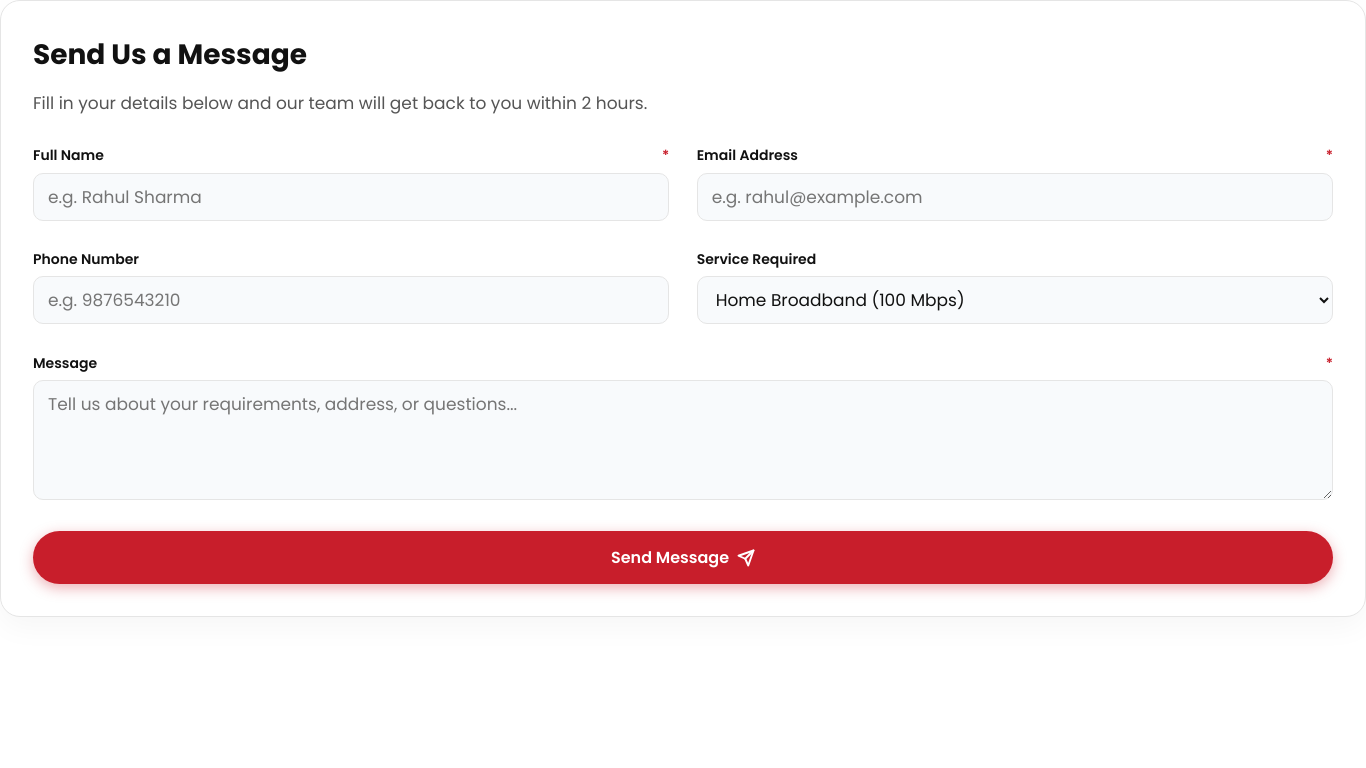
Test case: ContactForm Component › handles server failure gracefully and displays error alert
Type "Rahul Sharma" into the field labelled "Full Name *" at (351, 197), box [33,173,669,221]
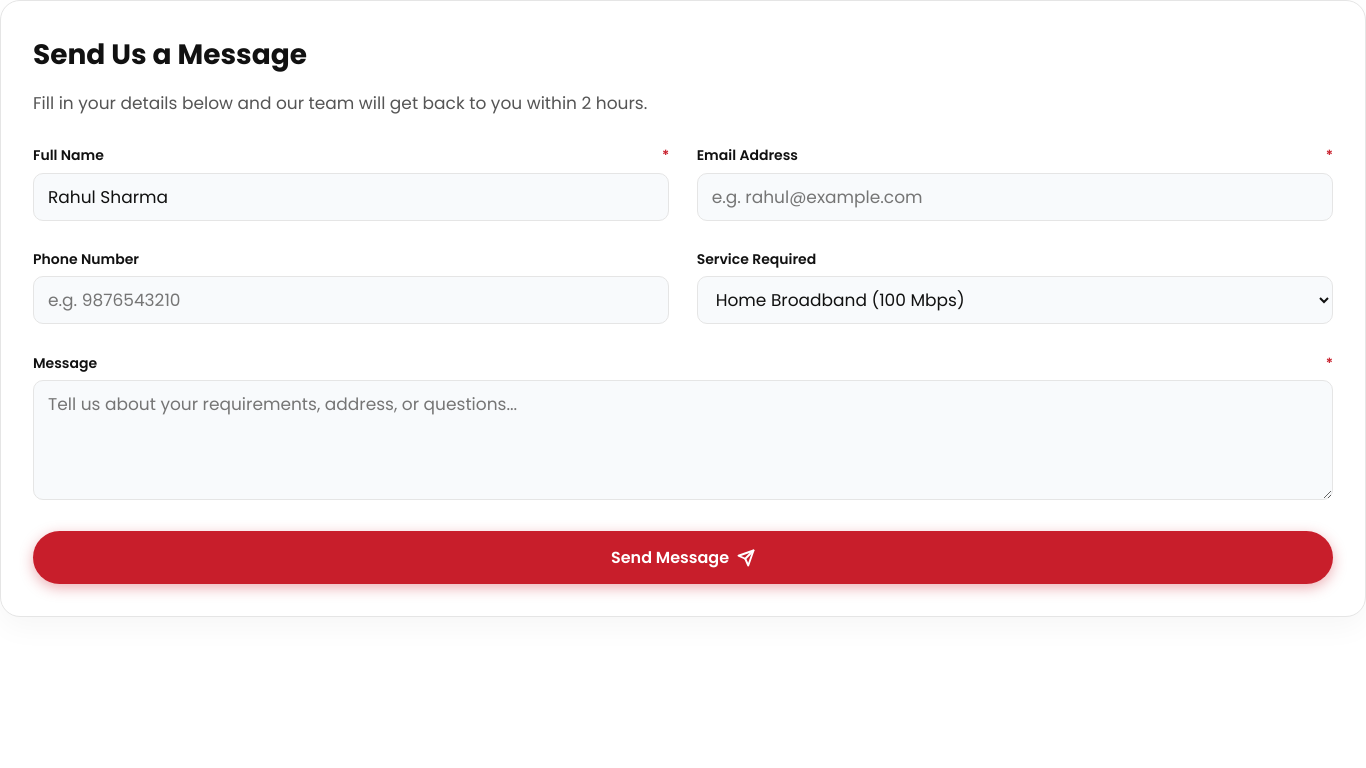
Type "rahul@example.com" into the field labelled "Email Address *" at (1015, 197), box [697,173,1333,221]
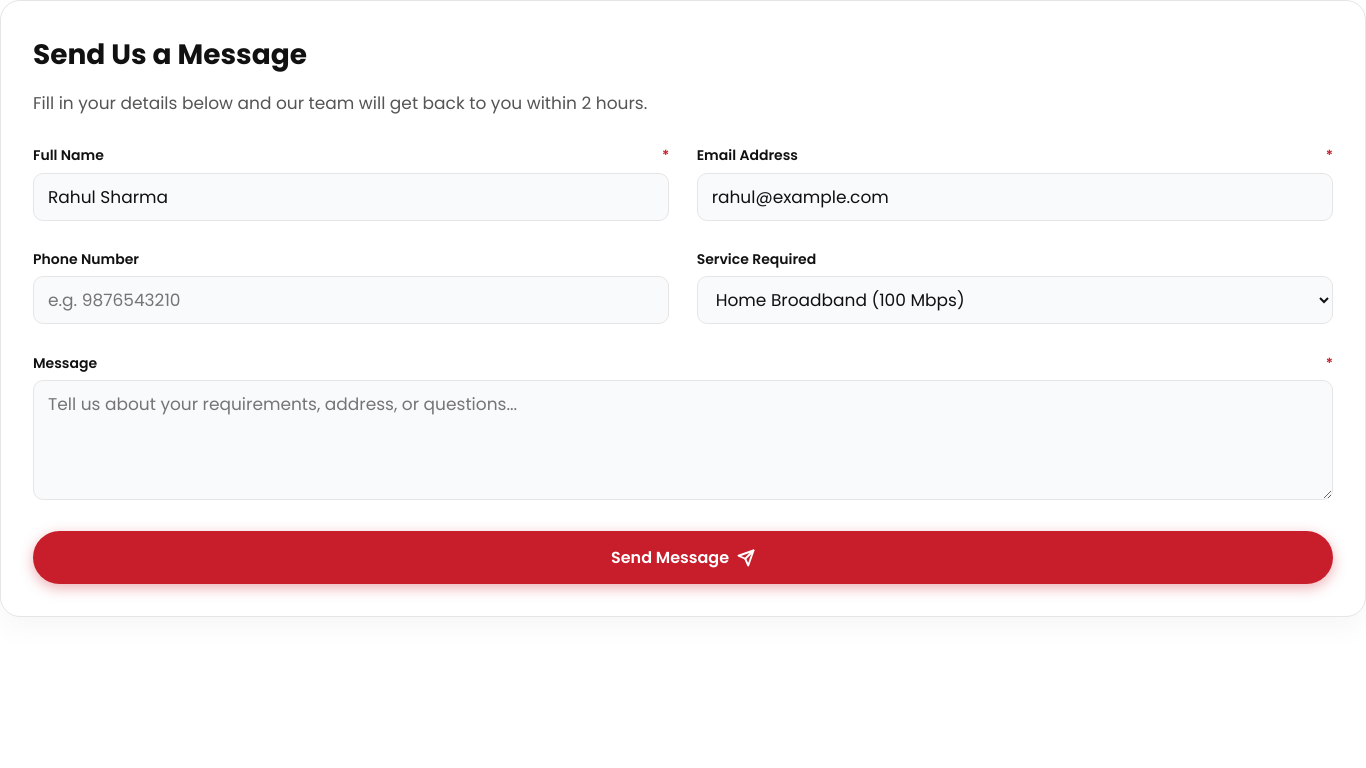
Type "Inquiry message." into the text box labelled "Message *" at (683, 440), box [33,380,1333,500]
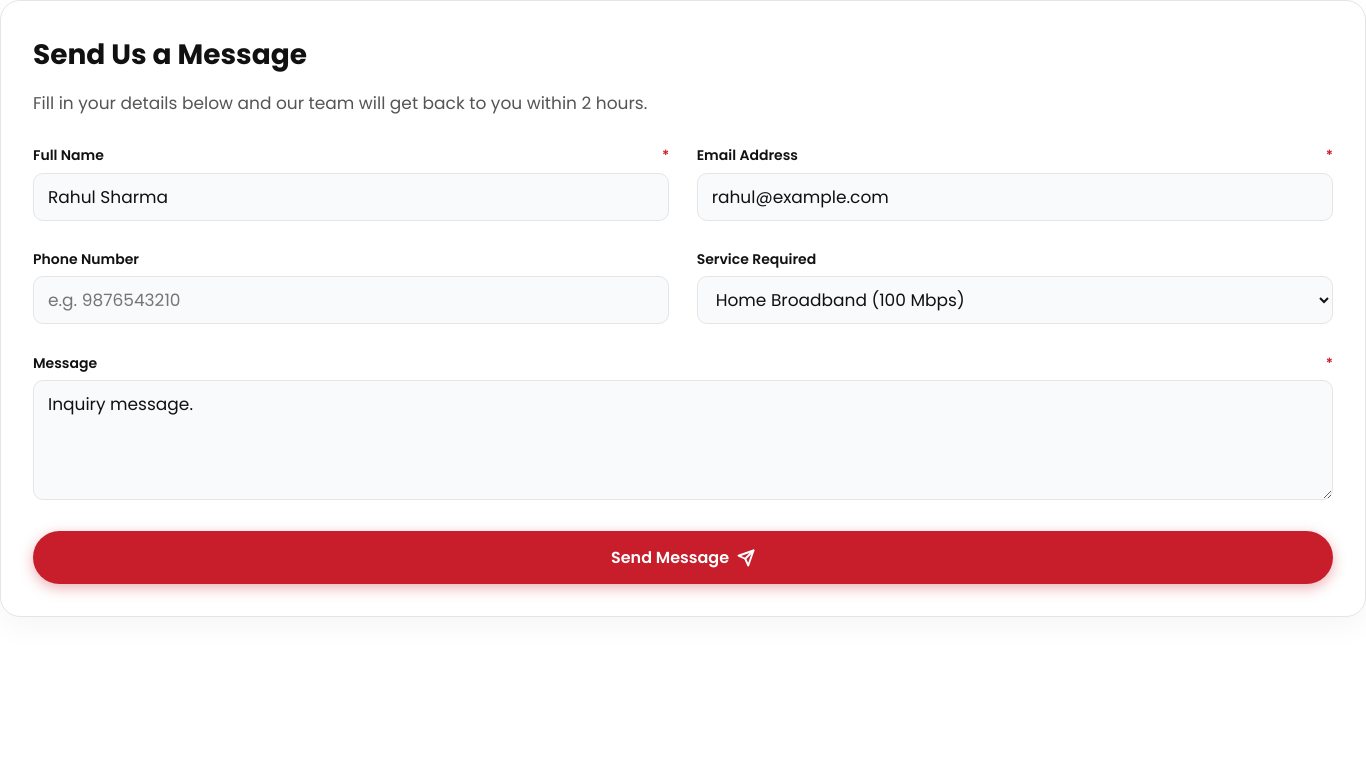
Click the button "Send Message" at (683, 558), box [33,531,1333,584]
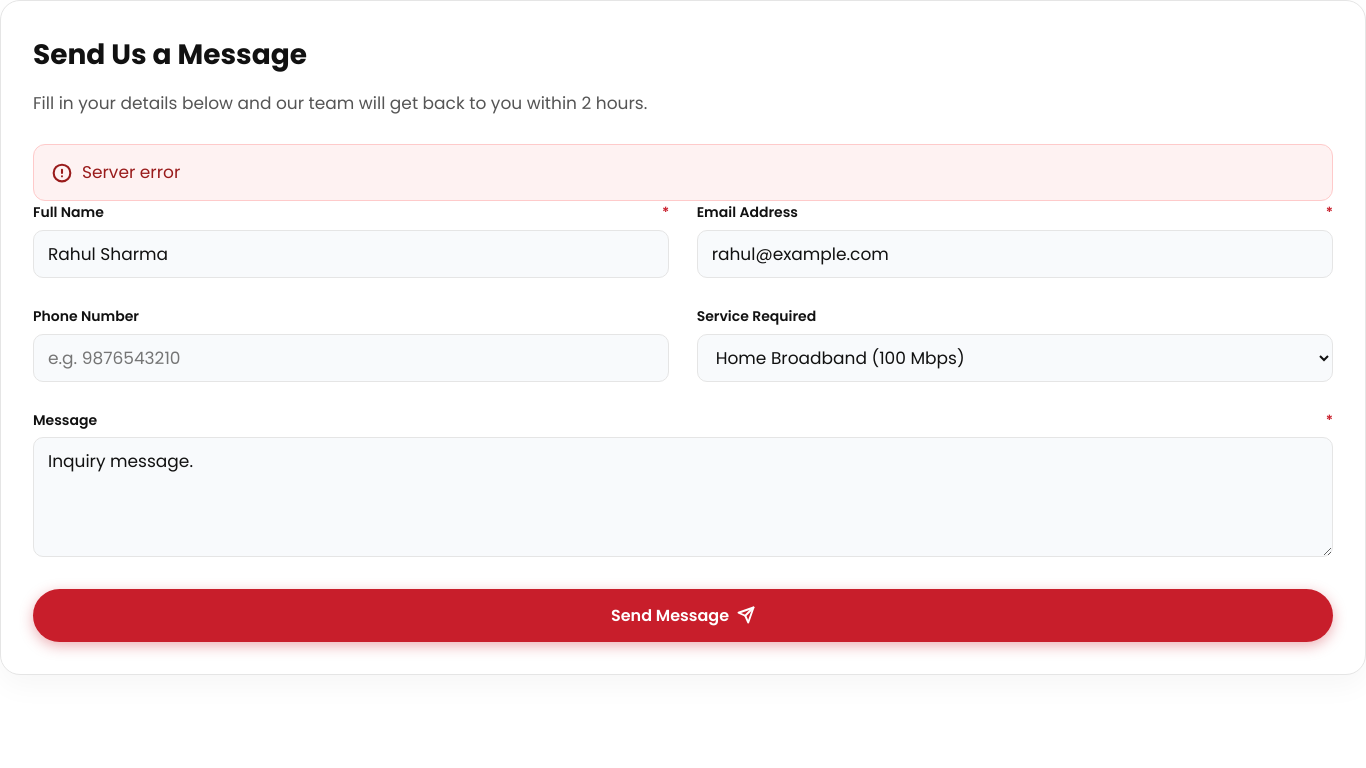
expect the text "Server error" is shown: met, box [82,159,180,186]
